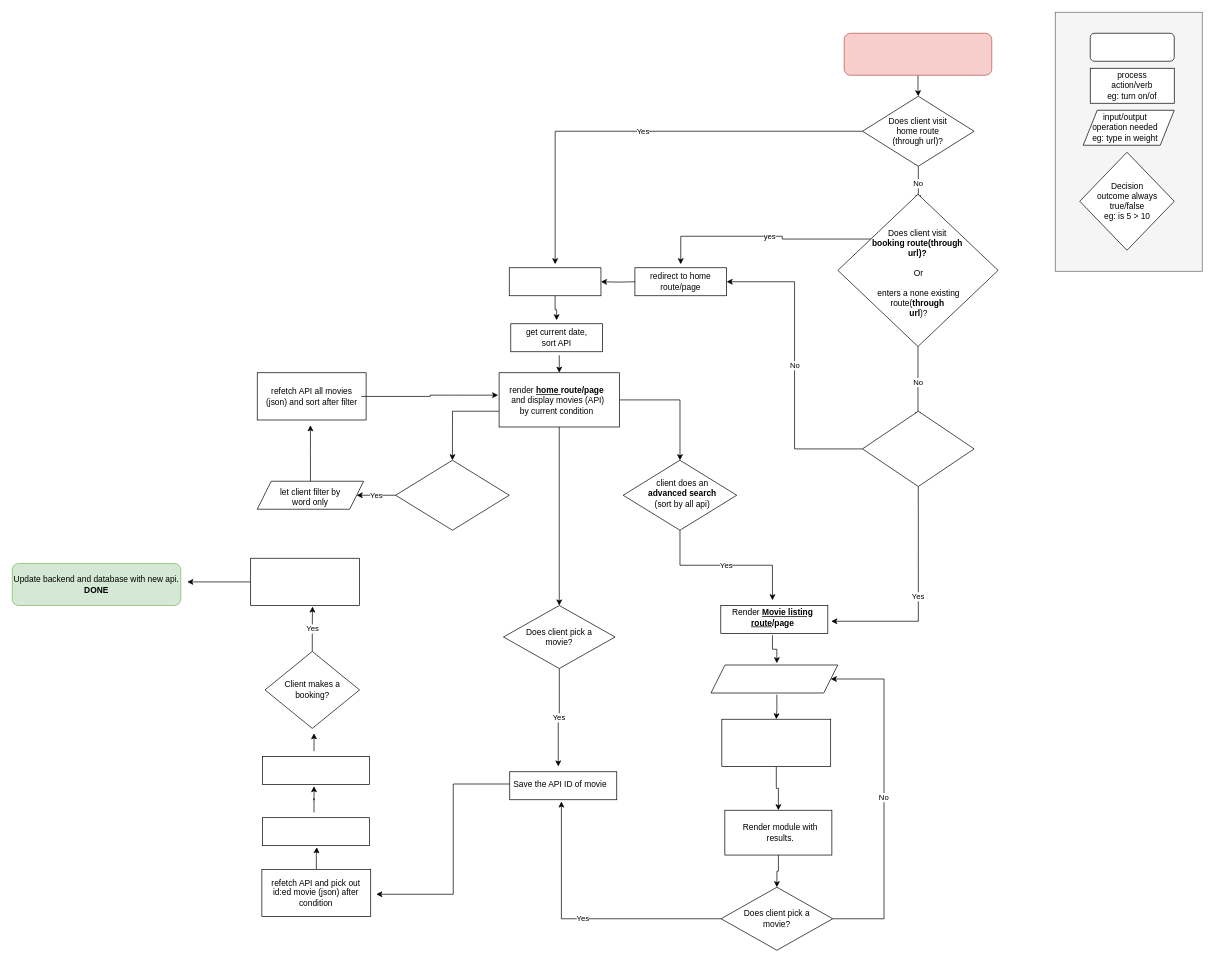
Image size: 1215x963. Some labels were removed from this diagram. The centre of each missing label's shape, as x and y in pixels:
"client (visit website) START" belongs at pixel 918 54.
"client does a quick search (Sort by current date )" belongs at pixel 452 495.
"Does client visit list route?(through url)" belongs at pixel 918 448.
"fetch API all movies (json)" belongs at pixel 555 281.
"Filter out the old api, insert new api" belongs at pixel 305 582.
"Let client search a date and sort by word" belongs at pixel 774 678.
"refetch API all movies (json) and sort after condition" belongs at pixel 776 742.
"Render booking route /page" belongs at pixel 315 831.
"Render info and seating moudle" belongs at pixel 315 770.
"Start/end/goal" belongs at pixel 1132 47.
